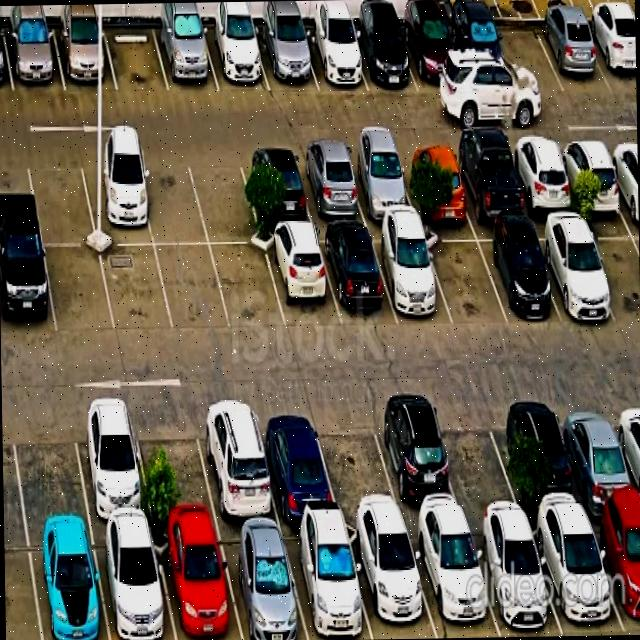empty: (434, 397, 523, 519), (312, 402, 402, 520), (132, 403, 218, 525), (9, 403, 89, 527), (422, 228, 507, 324), (186, 149, 261, 244), (136, 152, 208, 244), (25, 152, 96, 244), (155, 245, 230, 331), (100, 245, 173, 333), (210, 245, 285, 329), (44, 246, 115, 334), (584, 218, 640, 324), (489, 21, 563, 94), (103, 25, 169, 91)
occupied: (528, 514, 624, 636), (370, 399, 465, 521), (467, 519, 562, 637), (406, 520, 500, 638), (345, 523, 437, 639), (193, 399, 279, 523), (281, 523, 372, 640), (216, 526, 308, 640), (253, 402, 339, 521), (555, 394, 640, 514), (153, 526, 242, 640), (504, 395, 587, 517), (70, 402, 152, 524), (92, 526, 175, 640), (27, 527, 109, 640), (530, 219, 617, 319), (474, 226, 560, 322), (369, 228, 452, 324), (263, 229, 341, 330), (317, 227, 397, 325), (79, 153, 153, 244), (587, 511, 640, 635), (449, 143, 527, 221), (239, 148, 313, 226), (397, 145, 472, 219), (294, 148, 367, 223), (533, 21, 611, 91), (343, 147, 417, 220), (506, 140, 578, 214), (0, 241, 56, 336), (556, 139, 626, 211), (445, 20, 515, 91), (398, 20, 466, 92), (348, 24, 417, 91), (201, 25, 270, 91), (153, 25, 219, 91), (53, 25, 117, 91), (300, 28, 368, 90), (3, 26, 65, 91), (254, 28, 318, 90), (582, 21, 636, 91)
